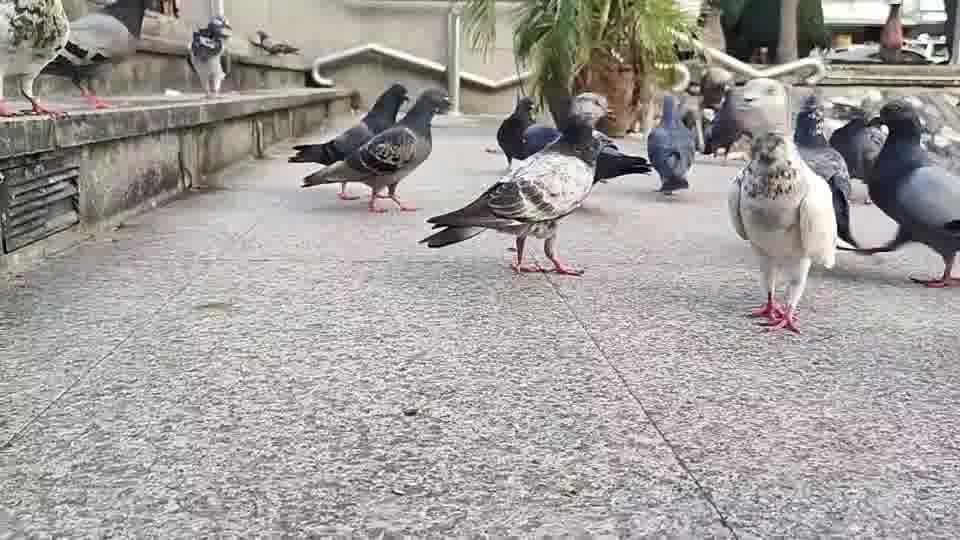Pigeon: (416, 92, 652, 276), (725, 128, 839, 336), (860, 97, 959, 287), (287, 82, 410, 201), (495, 92, 652, 184), (350, 85, 453, 212), (23, 12, 135, 117), (792, 94, 859, 250), (702, 76, 790, 159), (645, 94, 696, 195), (185, 14, 233, 98), (248, 27, 301, 57)
